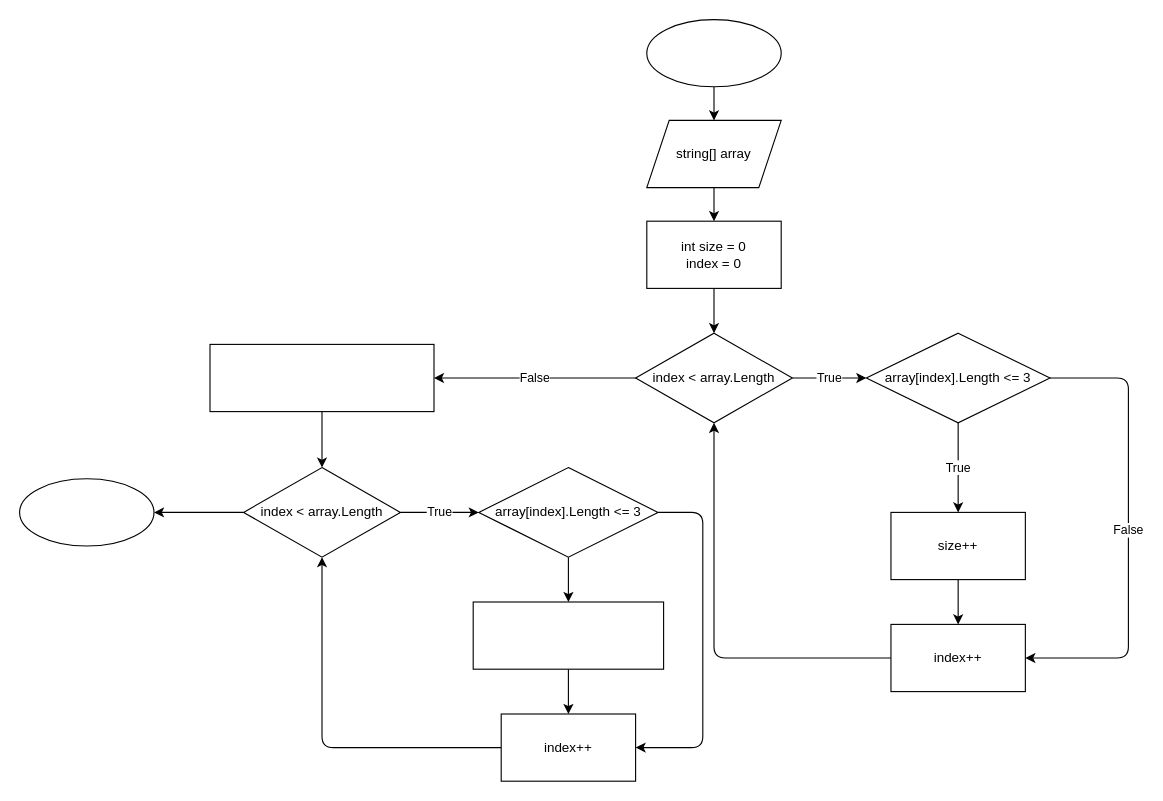
Image size: 1163x801. Some labels were removed from this diagram. Each missing label, with the centre of its shape:
"array1[index1] = array[index] index1++" goes at [568,635].
"end" goes at [86,512].
"start" goes at [713,52].
"string[] array1 = new string[size] index = 0 index1 = 0" goes at [321,377].
